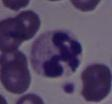N: (29, 27, 84, 77)
